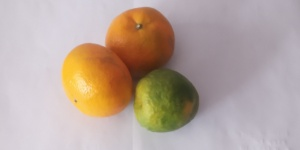BAD: (62, 43, 133, 115), (106, 5, 172, 72), (134, 70, 199, 133)
